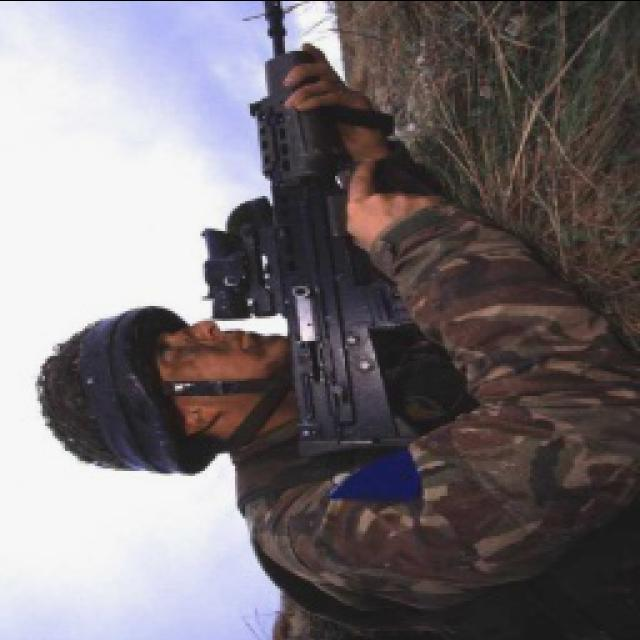long weapon: (210, 2, 410, 458)
